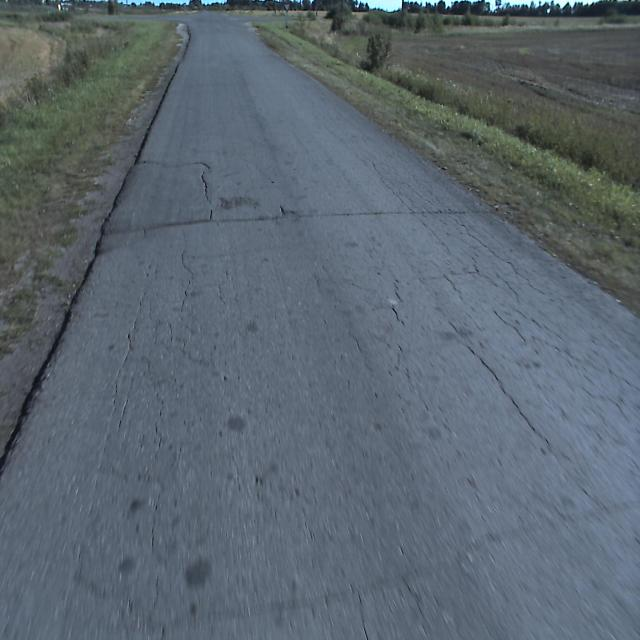road: (0, 10, 640, 639)
